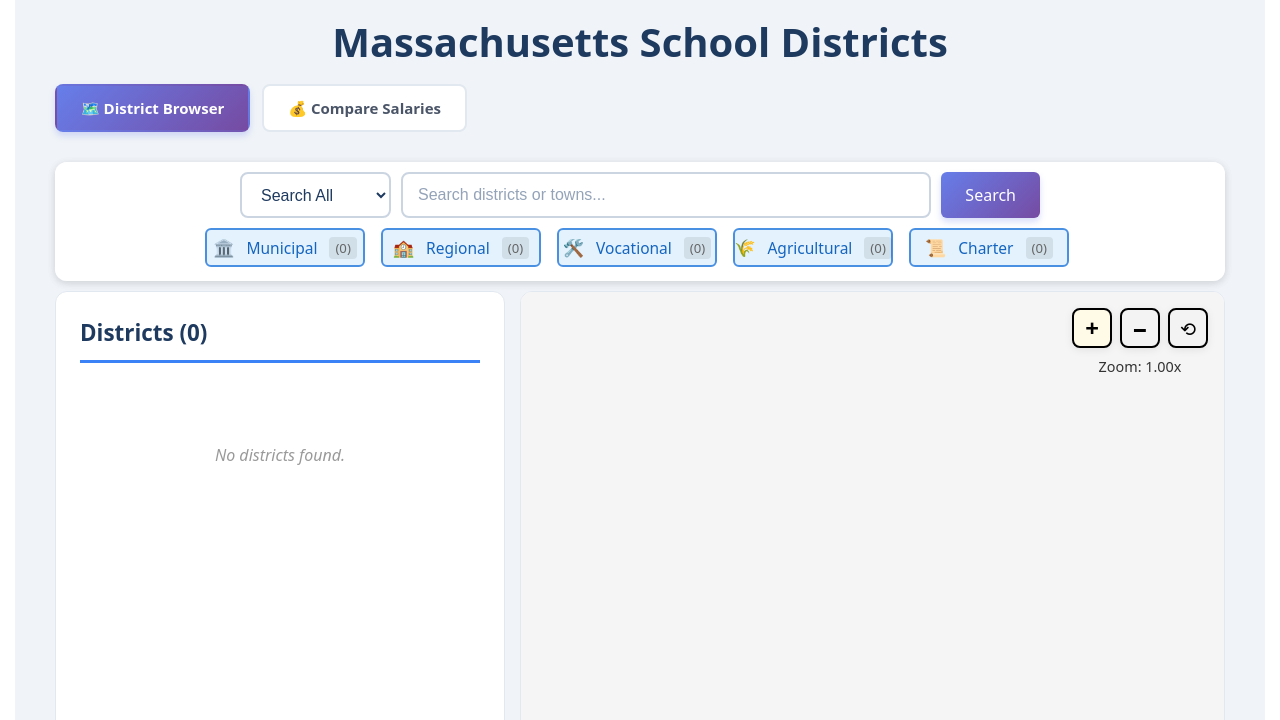
Test: searches and renders empty list, then clears
expect the heading "Districts (0)" is shown: met, box x1=80 y1=316 x2=480 y2=363
Note: enter query and submit
Step 1. Type "a" into the field with placeholder "Search districts or towns..." → (666, 195), box x1=401 y1=172 x2=931 y2=218
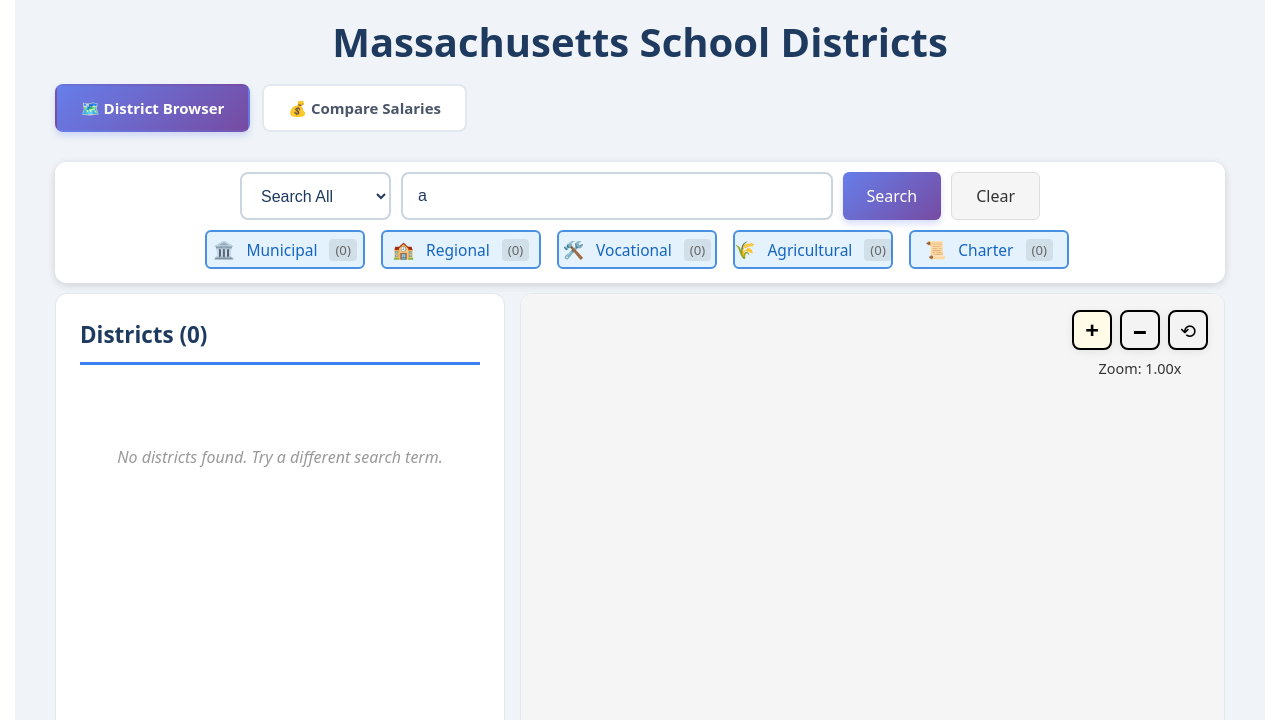
Step 2. Click the button "Search" → click(892, 196), box x1=842 y1=172 x2=941 y2=220
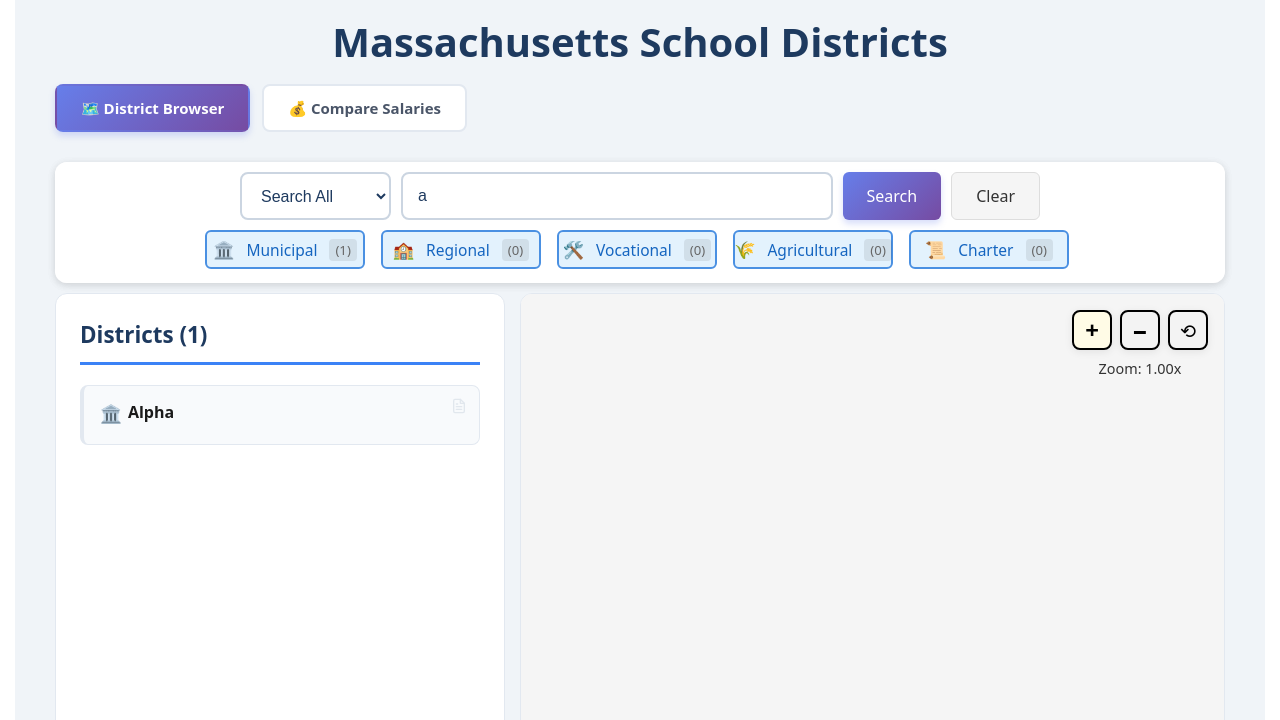
expect the text "Alpha" is shown: met, box x1=128 y1=401 x2=174 y2=423
Note: clear button
Step 3. Click the button "Clear" → click(996, 196), box x1=951 y1=172 x2=1040 y2=220
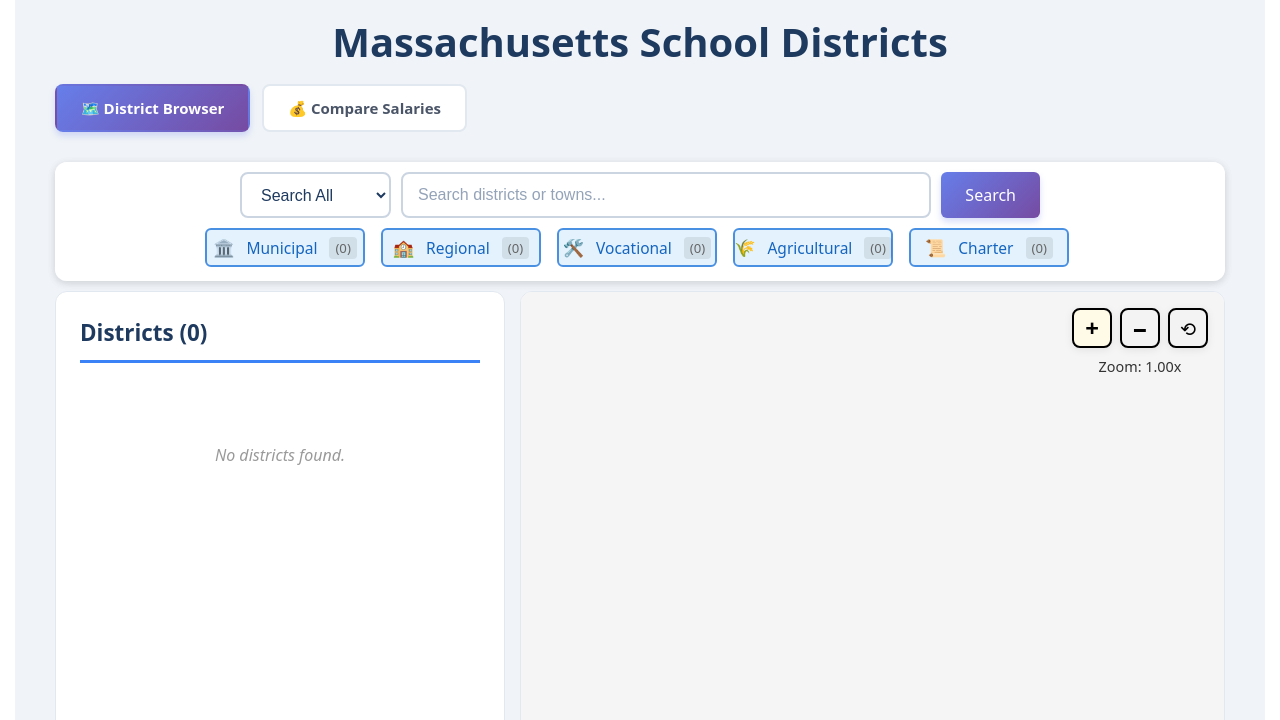
expect the heading "Districts (0)" is shown: met, box x1=80 y1=316 x2=480 y2=363
